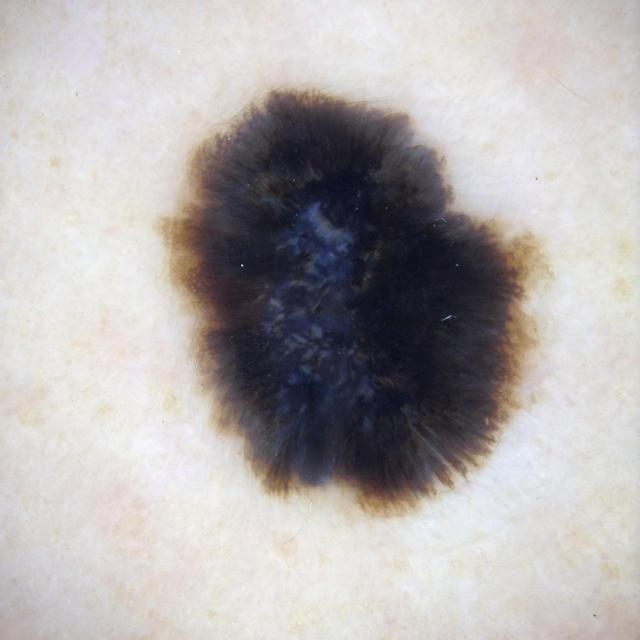Melanoma: (146, 72, 560, 540)
